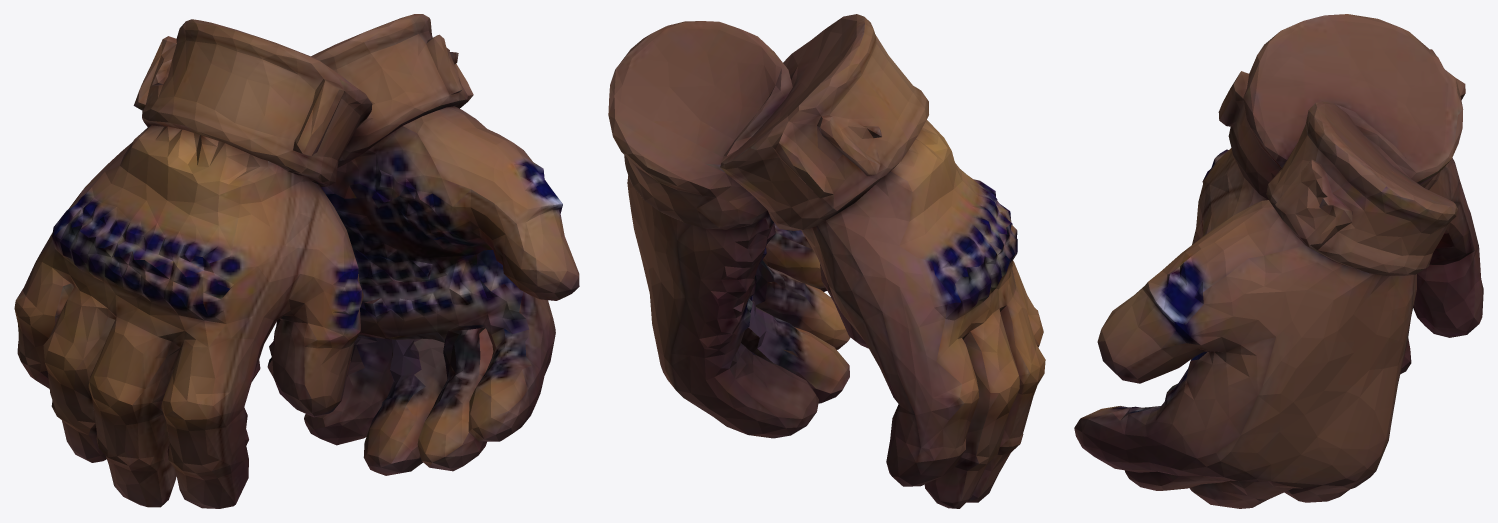
File: climb_gloves.glb
The picture shows the model from 3 angles, left to right: view 1: azimuth 30°, elevation 25°; view 2: azimuth 150°, elevation 25°; view 3: azimuth 270°, elevation 25°; orthographic projection.
Visible parts, largest first — view 1: tmpddonbzhz.ply; view 2: tmpddonbzhz.ply; view 3: tmpddonbzhz.ply.
Boxes of the visible parts, box(x1,y1,x2,y2) form: tmpddonbzhz.ply: box(14, 14, 579, 508); tmpddonbzhz.ply: box(608, 14, 1045, 508); tmpddonbzhz.ply: box(1074, 14, 1483, 508).
Size of the model in its own units: 1.99 by 1.99 by 1.65.
1 material, 1 textured.
